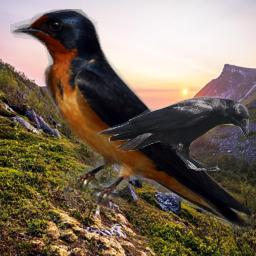Crow: (97, 96, 249, 171)
Swallow: (10, 9, 254, 234)
